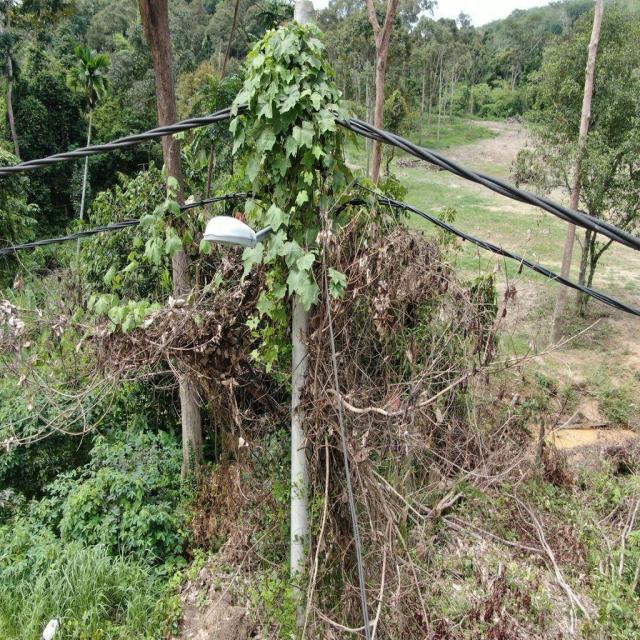light_pole: (221, 16, 361, 356)
